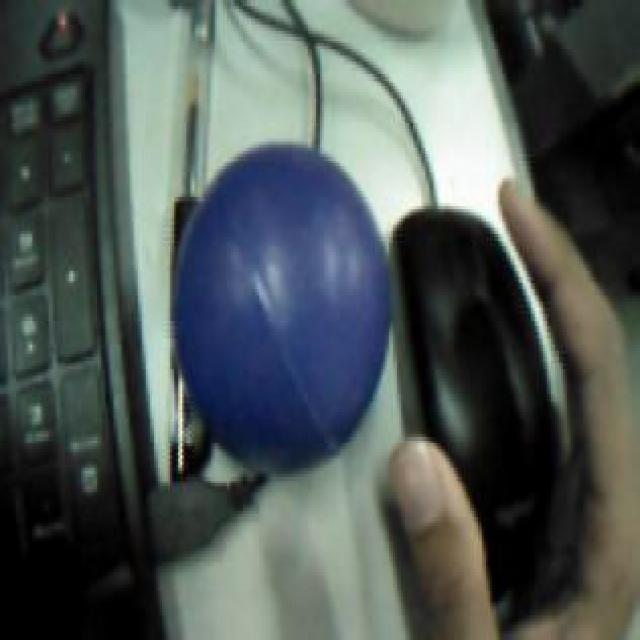BallPurple: (174, 143, 391, 468)
